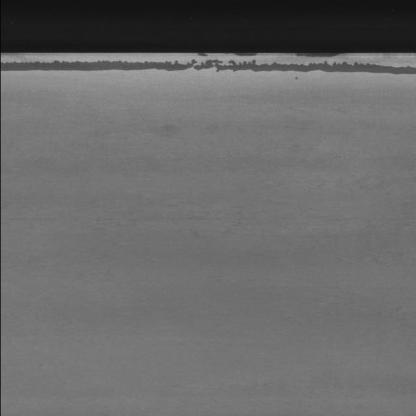oil_spot: (0, 57, 410, 94)
